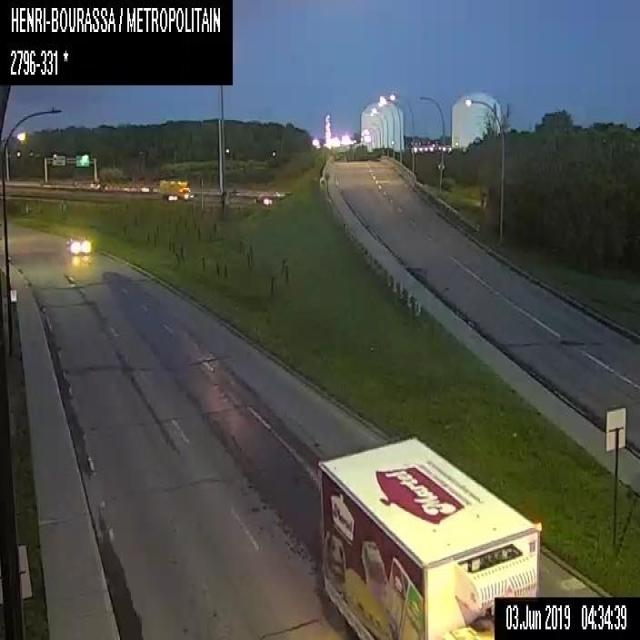vehicle: (315, 432, 541, 639), (158, 177, 193, 200), (64, 234, 91, 254)
